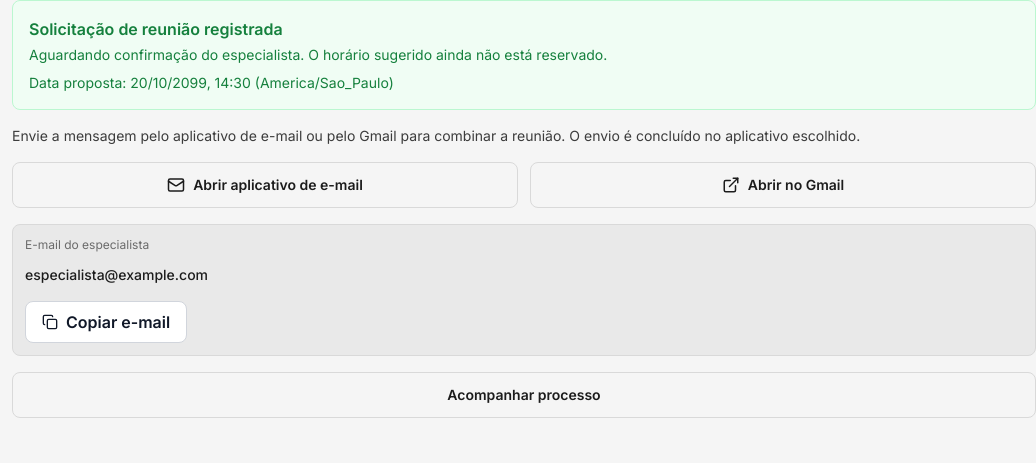
EmailSchedulingSuccess › announces successful clipboard copying
Click the button "Copiar e-mail" at (106, 322), box [25, 301, 187, 343]
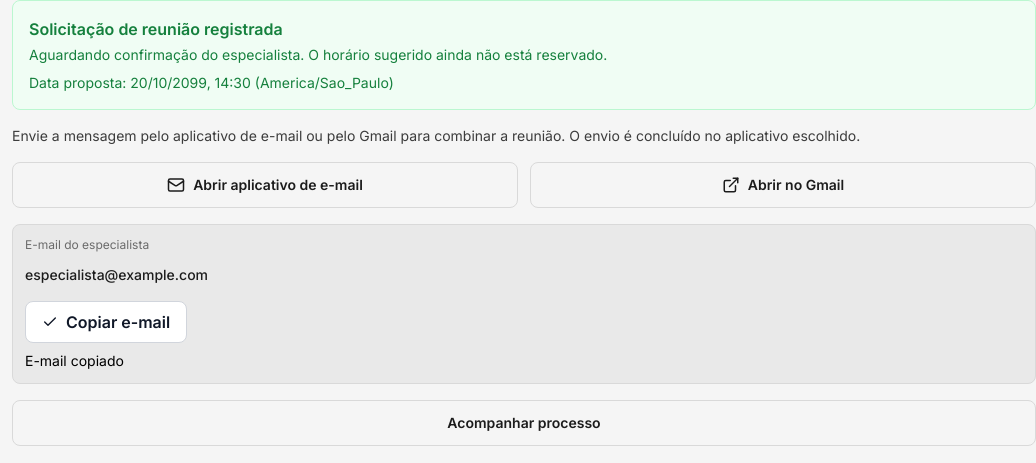
Check: the text "E-mail copiado" is shown, box [25, 352, 124, 369]
